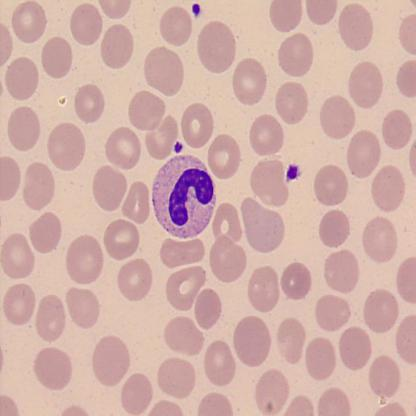Band Neutrophil: (151, 152, 218, 239)
